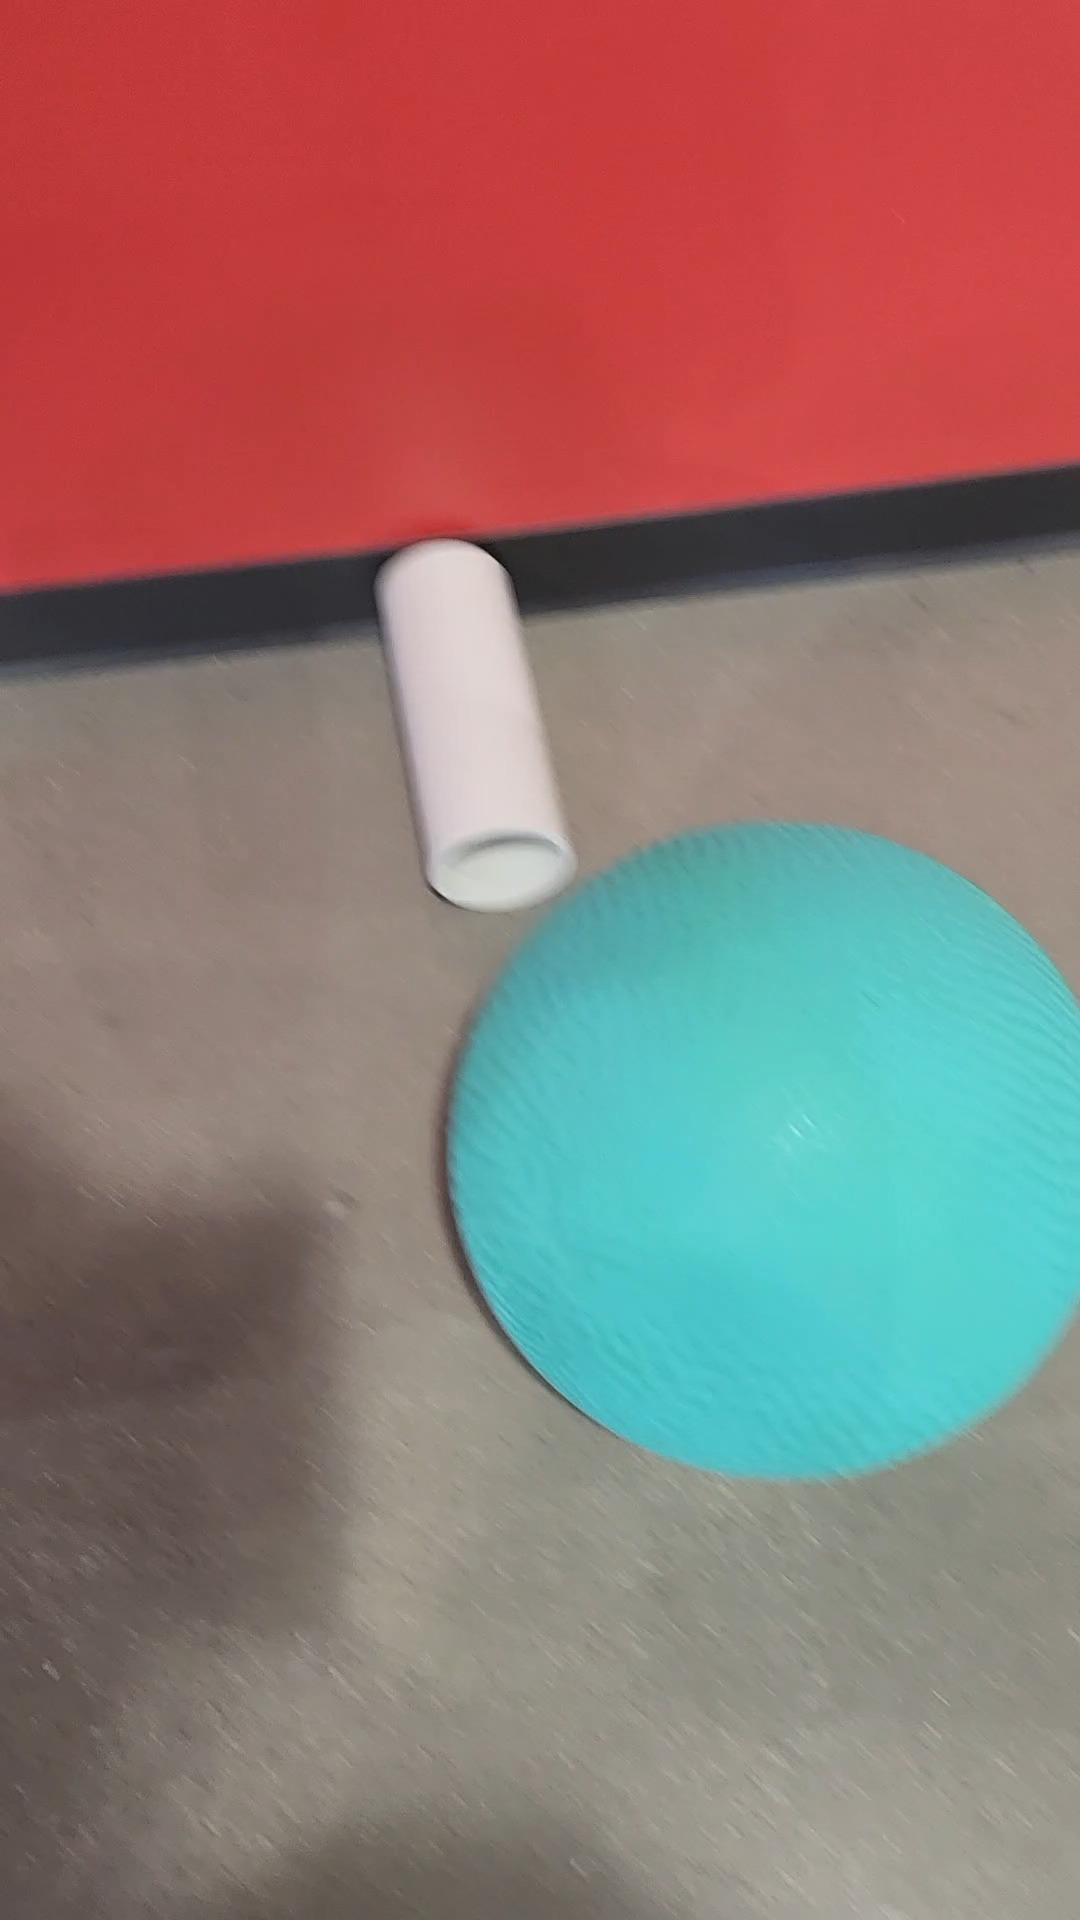algae: (446, 828, 1080, 1481)
coral: (342, 521, 599, 897)
